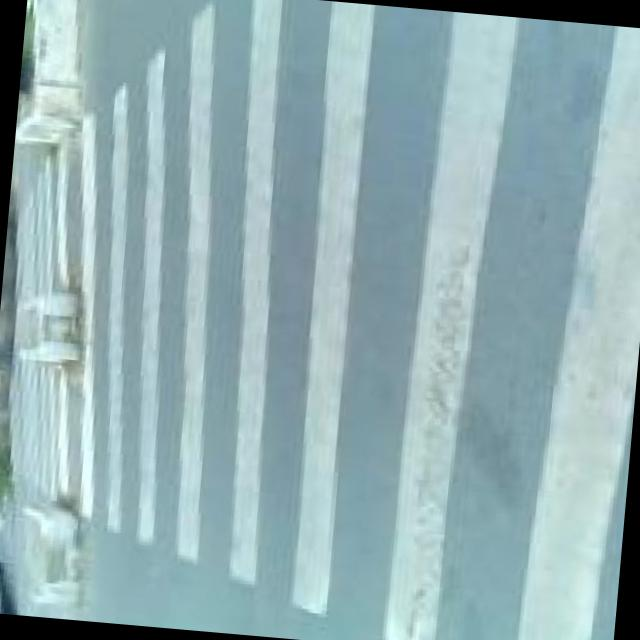zebra: (1, 0, 640, 640)
